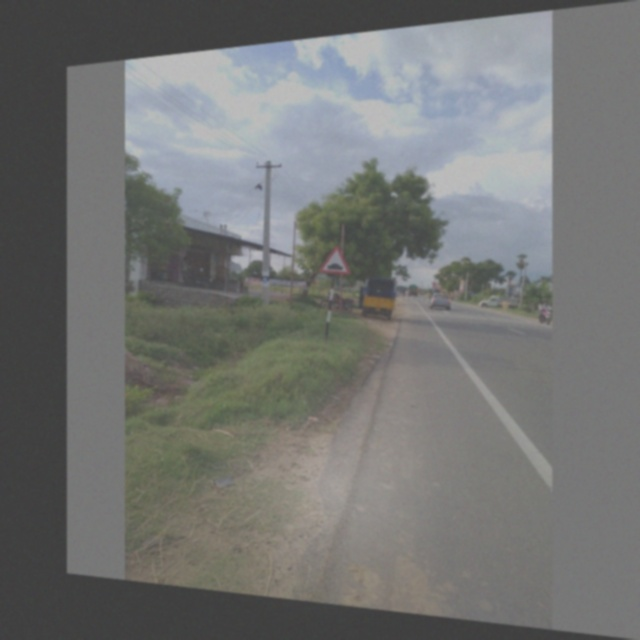Hump_or_Rough_Road: (317, 243, 349, 277)
